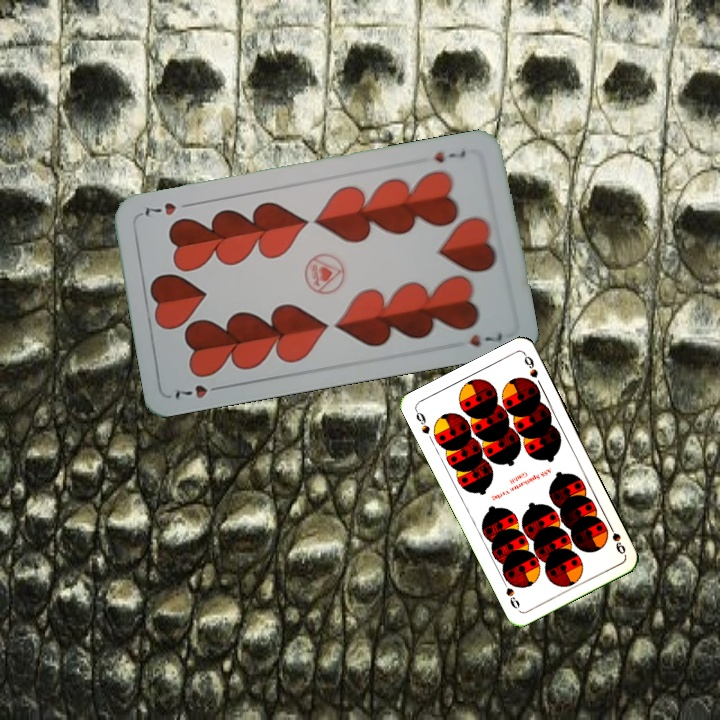H7: (170, 381, 227, 402), (430, 146, 468, 166)
S9: (604, 519, 628, 556), (411, 406, 433, 437)
